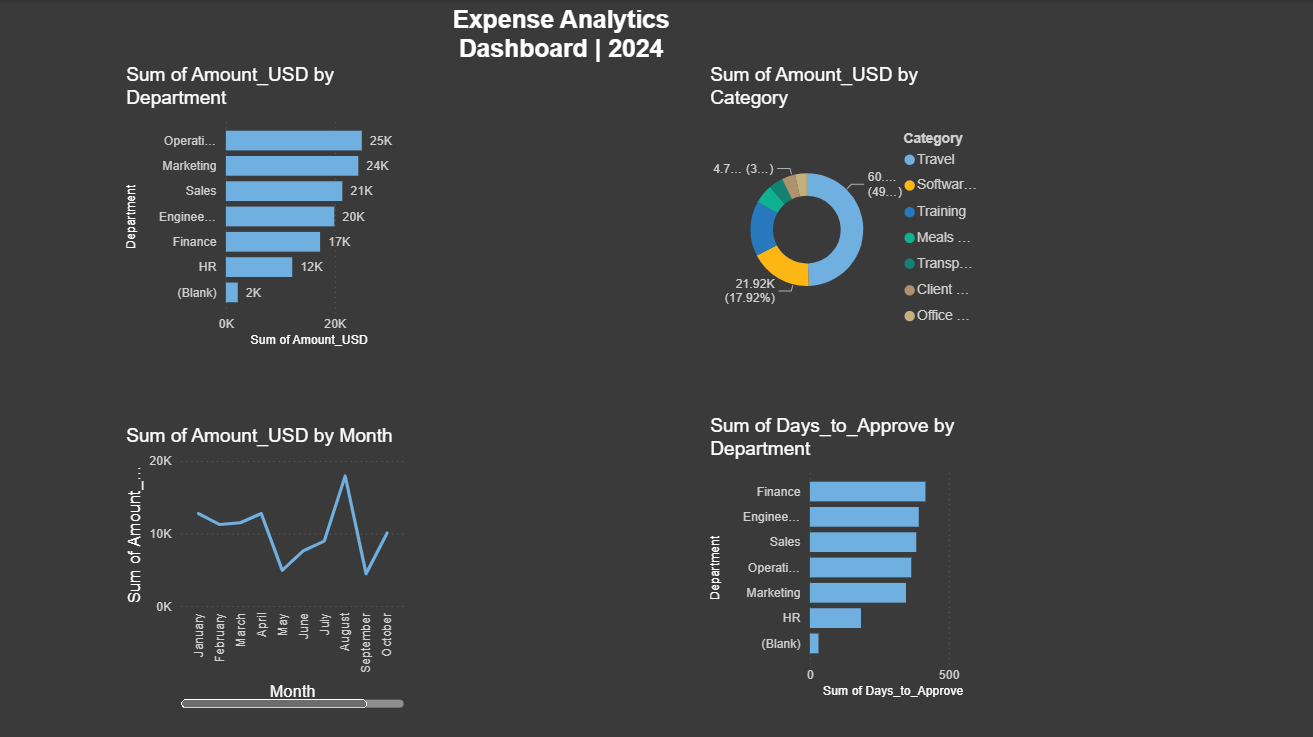

This screenshot's page, from the dashboard's own definition file:
{"tool":"powerbi","page":{"name":"Page 1","canvas":[1280,720],"ordinal":0},"visuals":[{"type":"clusteredBarChart","fields":{"Category":["Expense Data.Department"],"Y":["Sum(Expense Data.Amount_USD)"]},"box":[118.7,62.2,280.1,280.1],"z":0},{"type":"donutChart","fields":{"Category":["Expense Data.Category"],"Y":["Sum(Expense Data.Amount_USD)"]},"box":[686.7,62.2,280.1,280.1],"z":1},{"type":"lineChart","fields":{"Category":["Expense Data.Submit_Date.Variation.Date Hierarchy.Month"],"Y":["Sum(Expense Data.Amount_USD)"]},"box":[118.7,413.4,280.1,280.1],"z":2},{"type":"clusteredBarChart","fields":{"Category":["Expense Data.Department"],"Y":["Sum(Expense Data.Days_to_Approve)"]},"box":[686.7,403.6,280.1,280.1],"z":3},{"type":"textbox","box":[406.6,0,280.1,280.1],"z":4}]}

Visuals, with their boxes in screenshot pixels (x1, y1, x2, y2), scaled from the page's 1280x720 canvas onto the 1313x737 screenshot:
clusteredBarChart - Expense Data.Department x Sum(Expense Data.Amount_USD): bbox(122, 64, 409, 350)
donutChart - Expense Data.Category x Sum(Expense Data.Amount_USD): bbox(704, 64, 992, 350)
lineChart - Expense Data.Submit_Date.Variation.Date Hierarchy.Month x Sum(Expense Data.Amount_USD): bbox(122, 423, 409, 710)
clusteredBarChart - Expense Data.Department x Sum(Expense Data.Days_to_Approve): bbox(704, 413, 992, 700)
textbox: bbox(417, 0, 704, 287)
